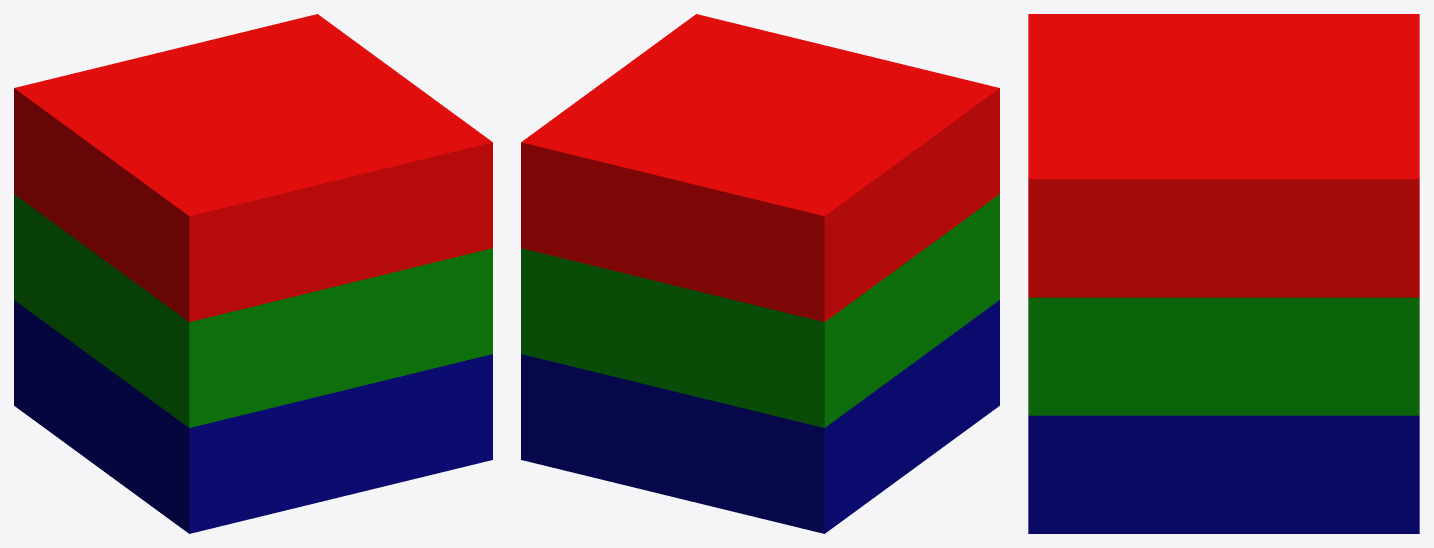
The picture shows the model from 3 angles, left to right: view 1: azimuth 30°, elevation 25°; view 2: azimuth 150°, elevation 25°; view 3: azimuth 270°, elevation 25°; orthographic projection. The views are drawn at different scales.
Visible parts, largest first — view 1: Cube; view 2: Cube; view 3: Cube.
Part boxes in pixels (x1,y1,x2,y2): Cube: (14, 14, 492, 533); Cube: (521, 14, 999, 533); Cube: (1028, 14, 1419, 533).
Bounding box in the file's own units: 1 × 1 × 1.
